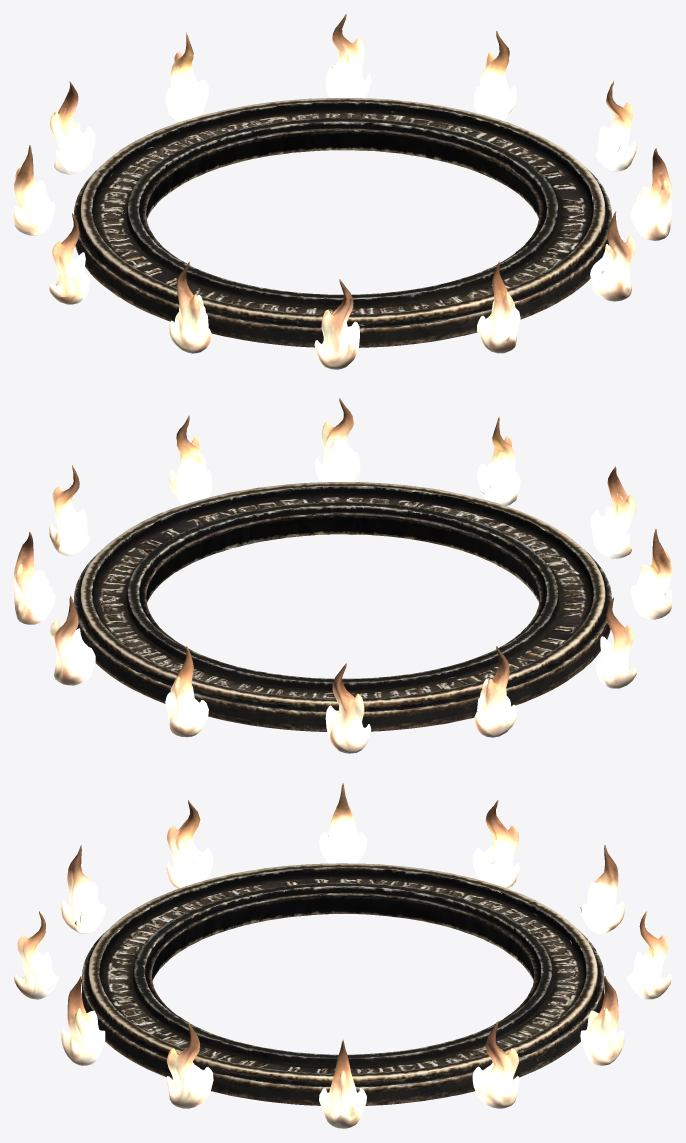
Rendered from Runic_Fire_Ring.fbx.
3 renders of one model, top to bottom at view 1: azimuth 30°, elevation 25°; view 2: azimuth 150°, elevation 25°; view 3: azimuth 270°, elevation 25°, orthographic. The views are drawn at different scales.
Parts seen in each view (by area): view 1: Runic_Fire_Ring_LOD0; view 2: Runic_Fire_Ring_LOD0; view 3: Runic_Fire_Ring_LOD0.
Boxes of the visible parts, x1,y1,x2,y2 form: Runic_Fire_Ring_LOD0: (14, 14, 671, 369); Runic_Fire_Ring_LOD0: (14, 398, 671, 753); Runic_Fire_Ring_LOD0: (14, 783, 671, 1128).
Size of what is drawn, in the model's own units: 1.9 by 0.2784 by 1.9.
Materials: 1 (1 with a texture image).
